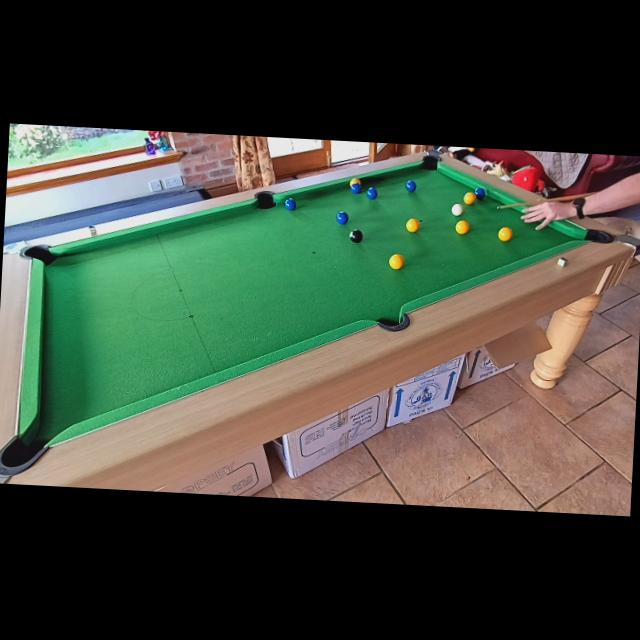Ball: (388, 253, 404, 270), (349, 228, 364, 244), (498, 227, 513, 242), (456, 220, 470, 235), (406, 218, 420, 233), (404, 180, 418, 193), (336, 211, 349, 225), (464, 192, 477, 205), (451, 204, 464, 216), (349, 178, 361, 191), (284, 198, 296, 211), (350, 182, 362, 195), (366, 187, 378, 200), (474, 188, 486, 200)
